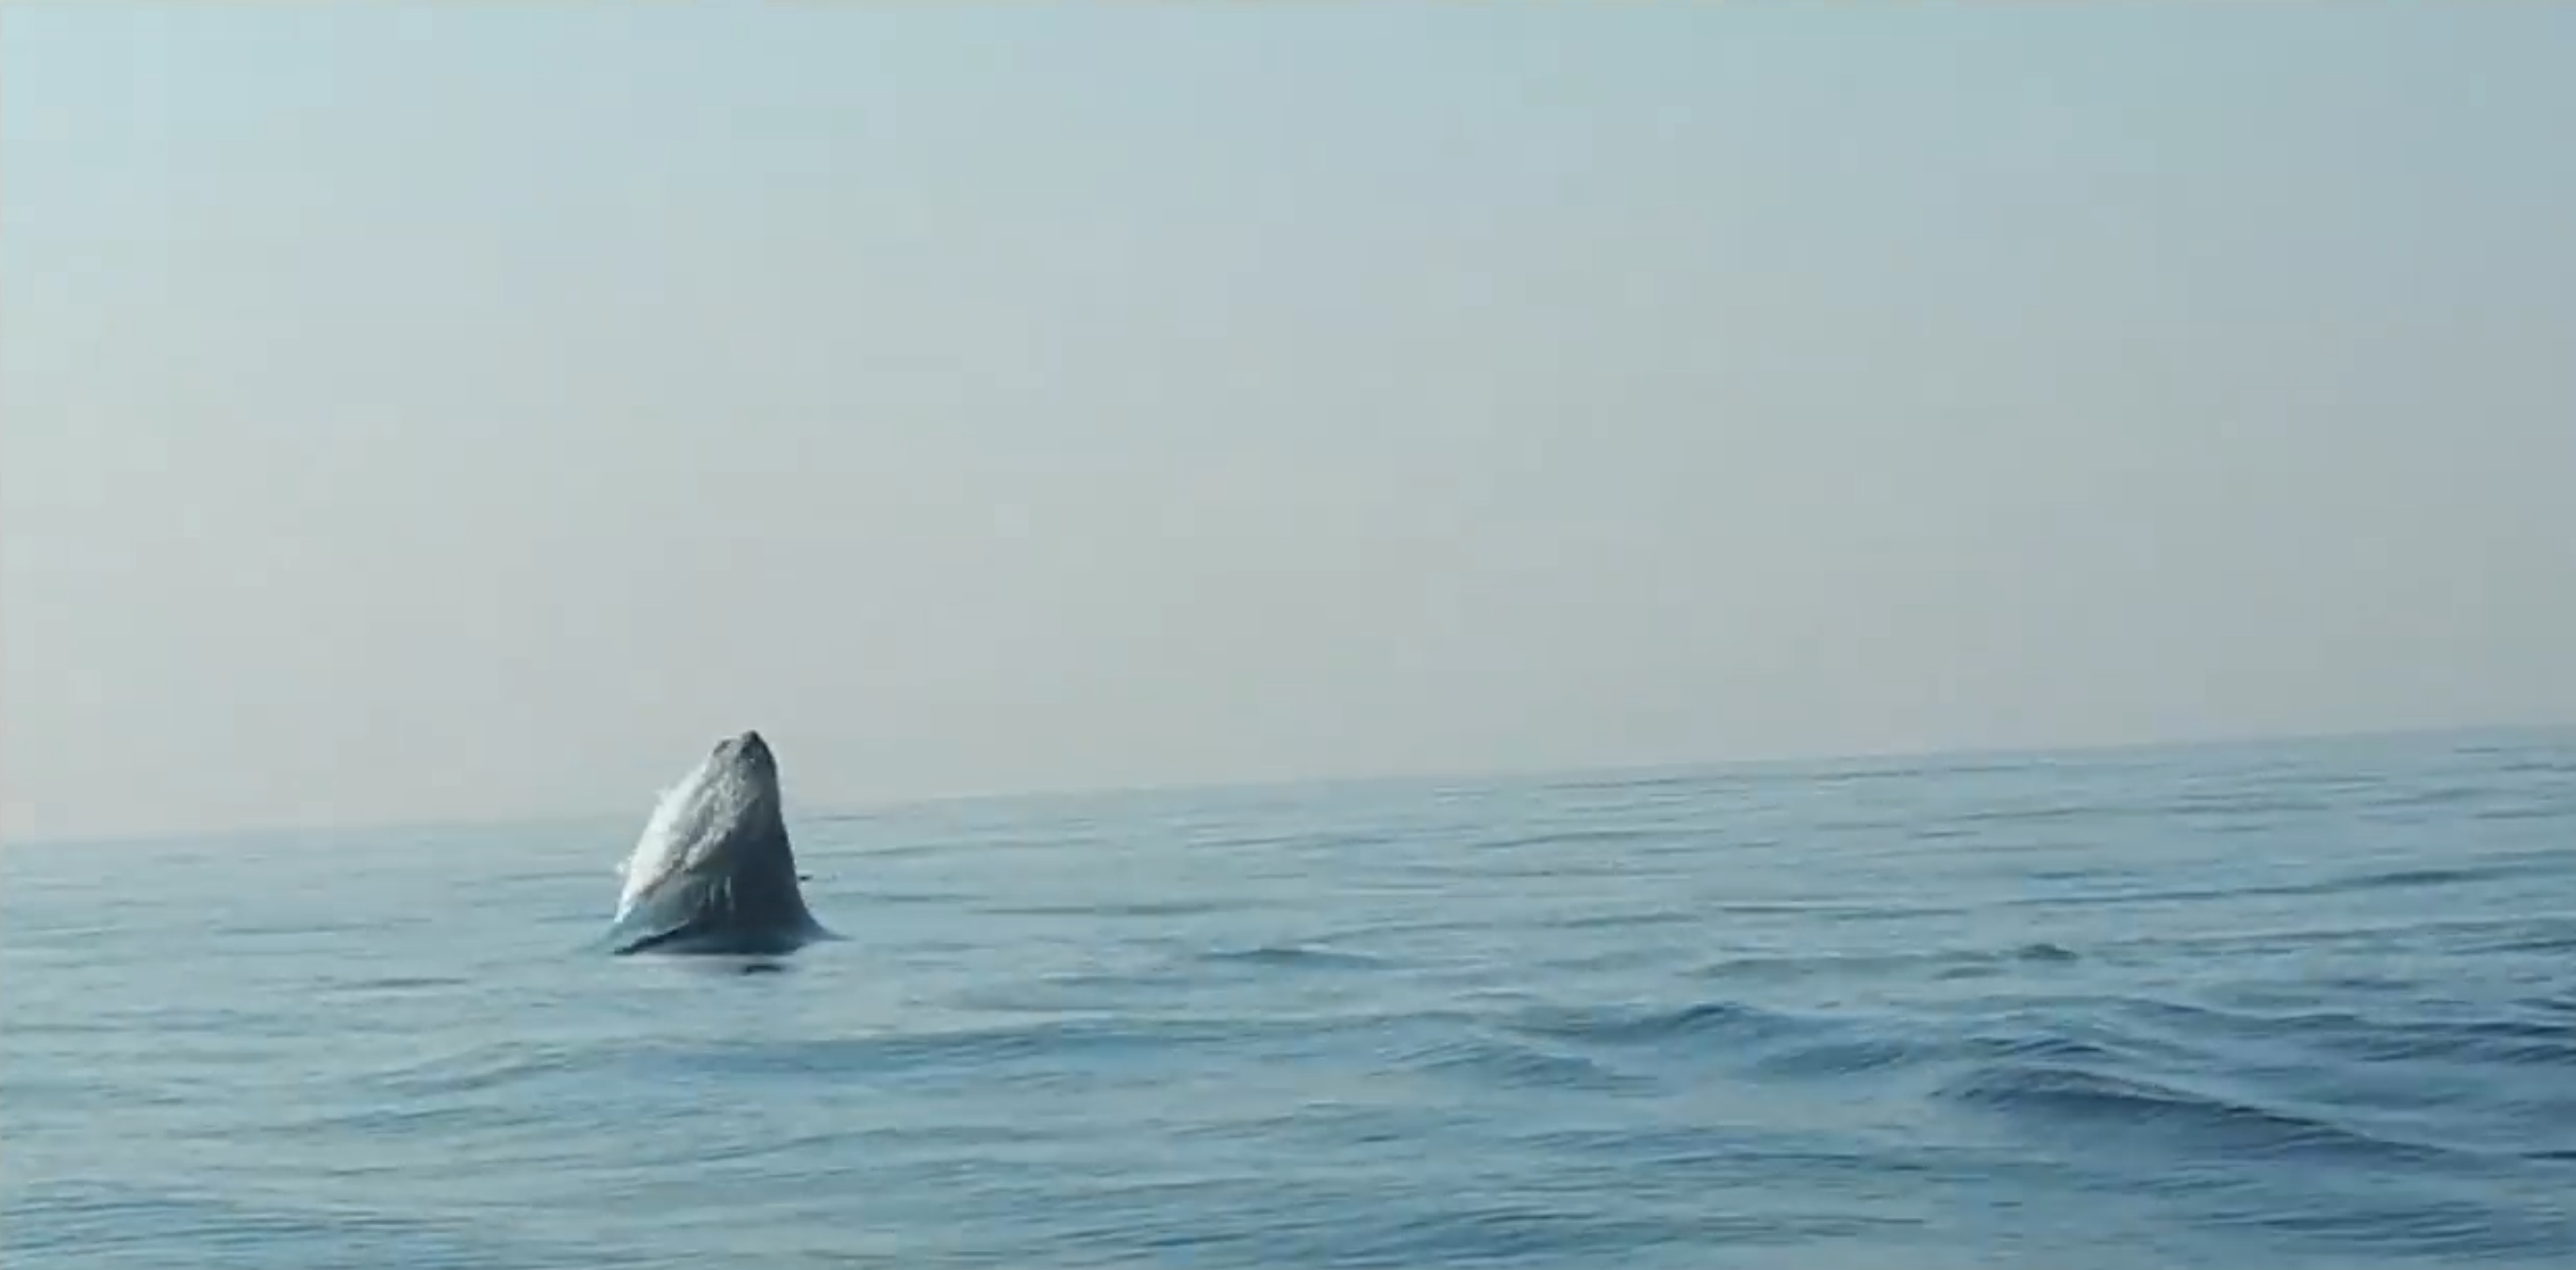humpback: (614, 731, 813, 955)
